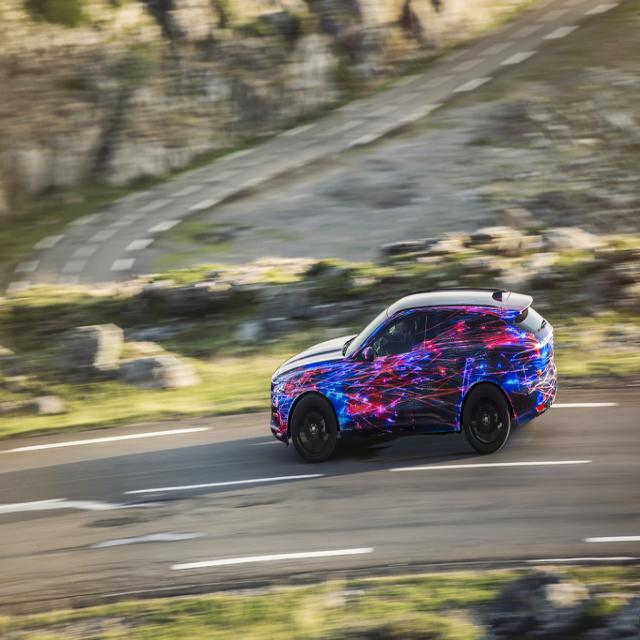car: (264, 289, 558, 461)
